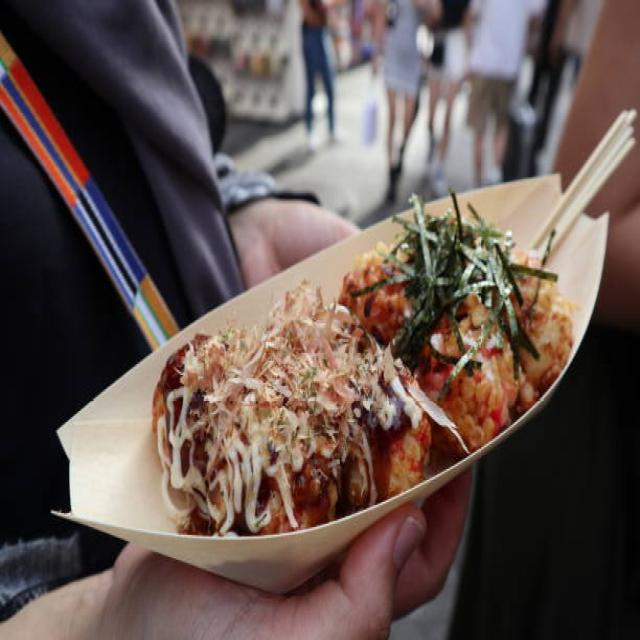Emperan: (38, 108, 637, 629)
